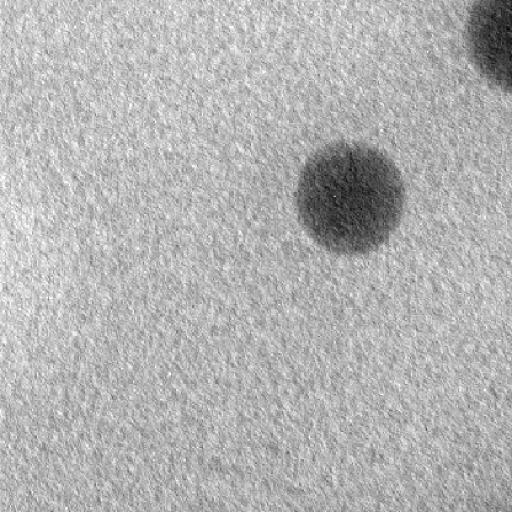Nanoparticles: (295, 139, 406, 257), (465, 0, 512, 96)
